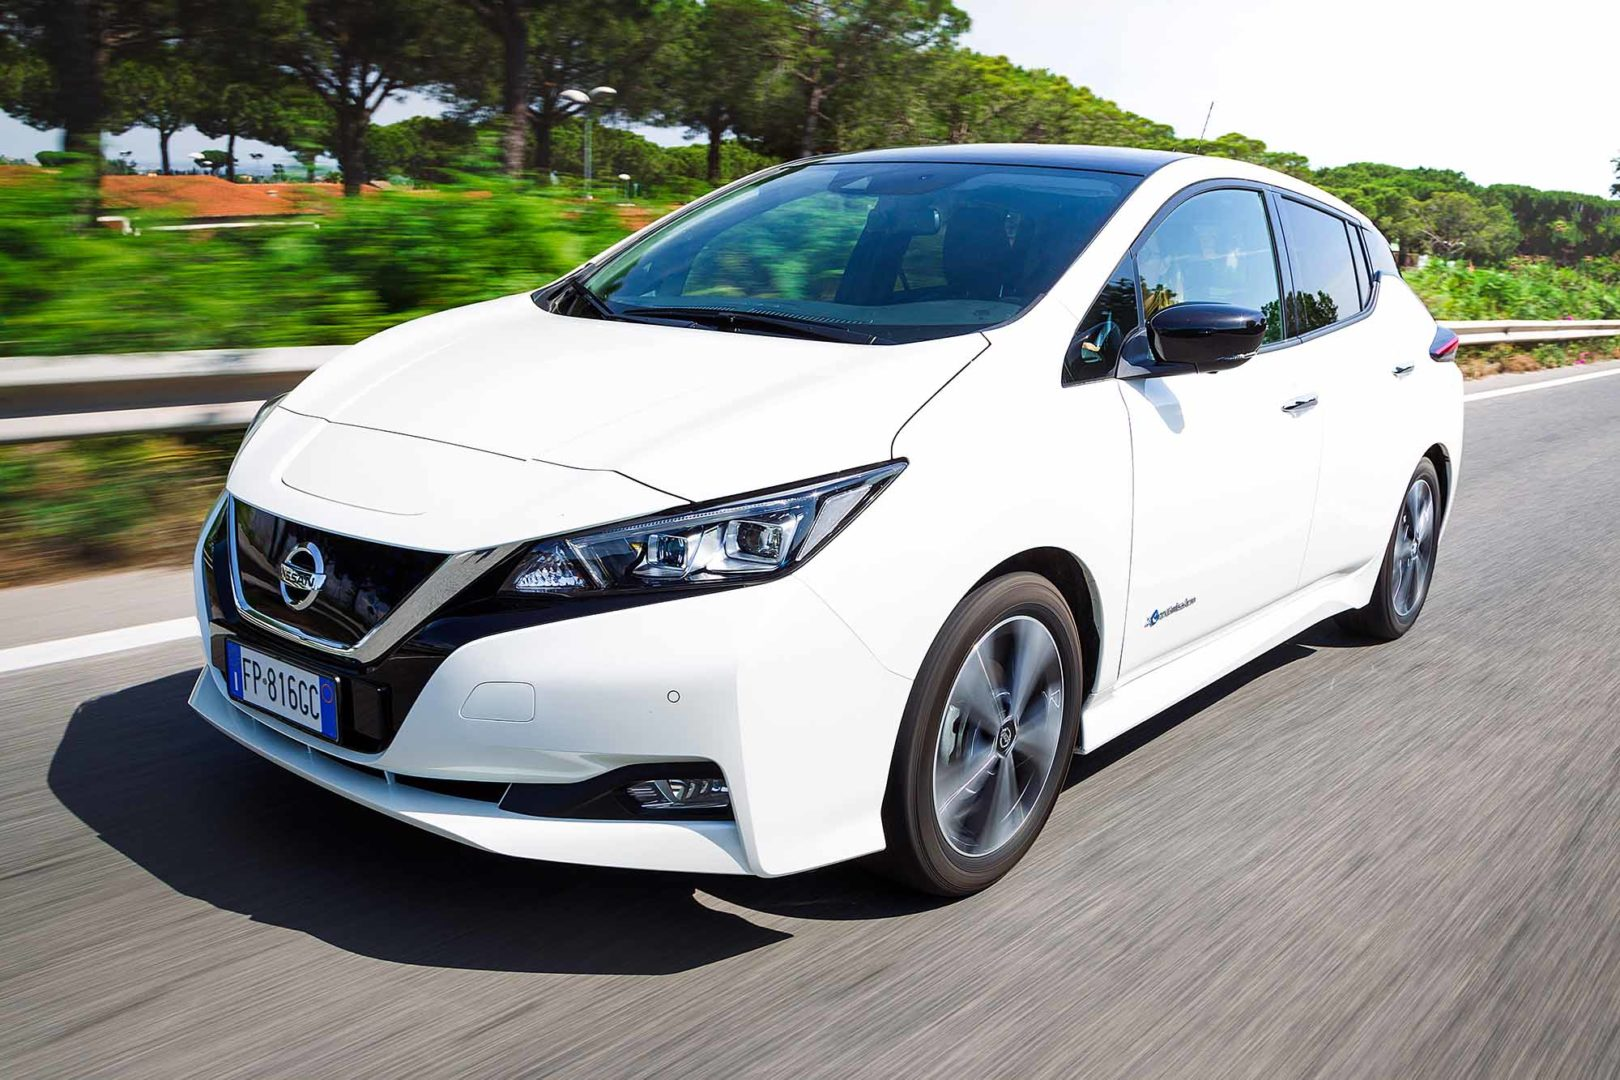car: (184, 143, 1467, 903)
